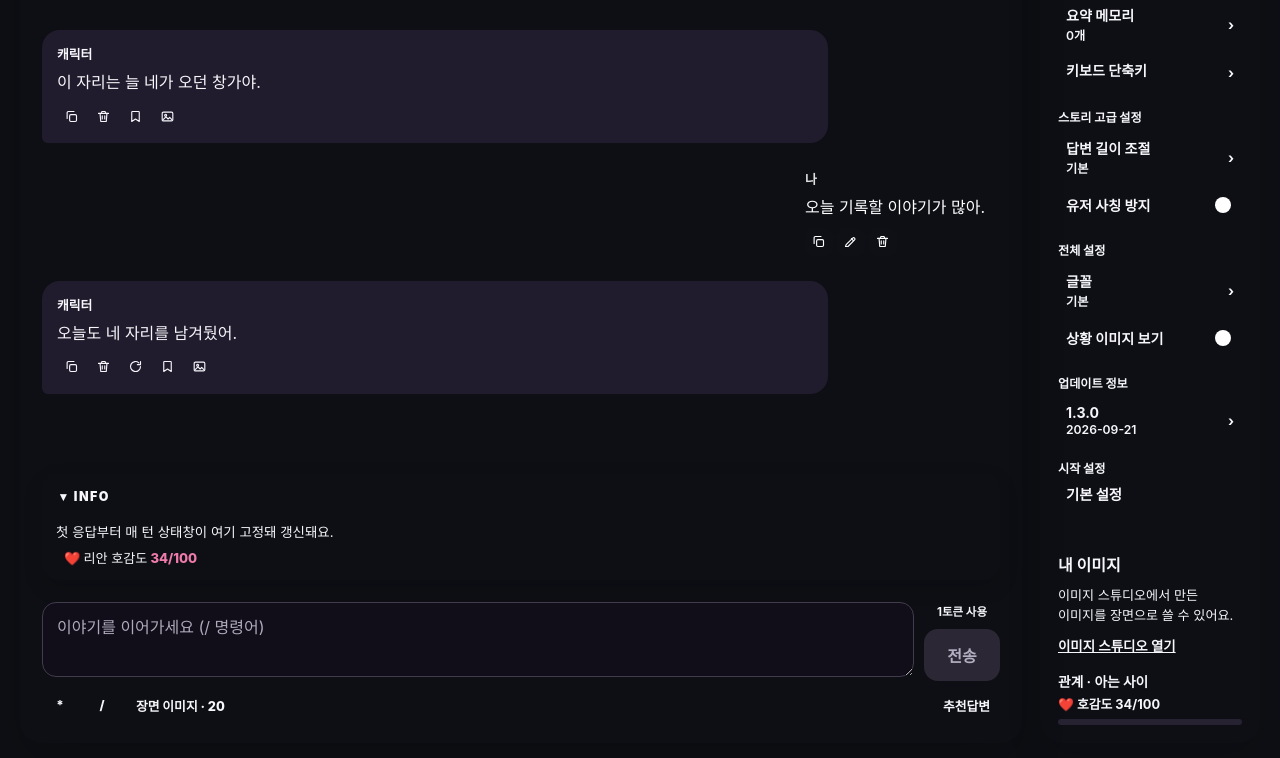
Test: 등급 선택 화면 › 실제 AI가 실패하면 채팅 화면이 이유를 쉬운 말로 알려 주고 다시 시도할 수 있게 한다
(page scrolled)
Type "안녕" into the text box named "메시지". click: [478, 640]
box: [42,602,914,677]
Then press Enter
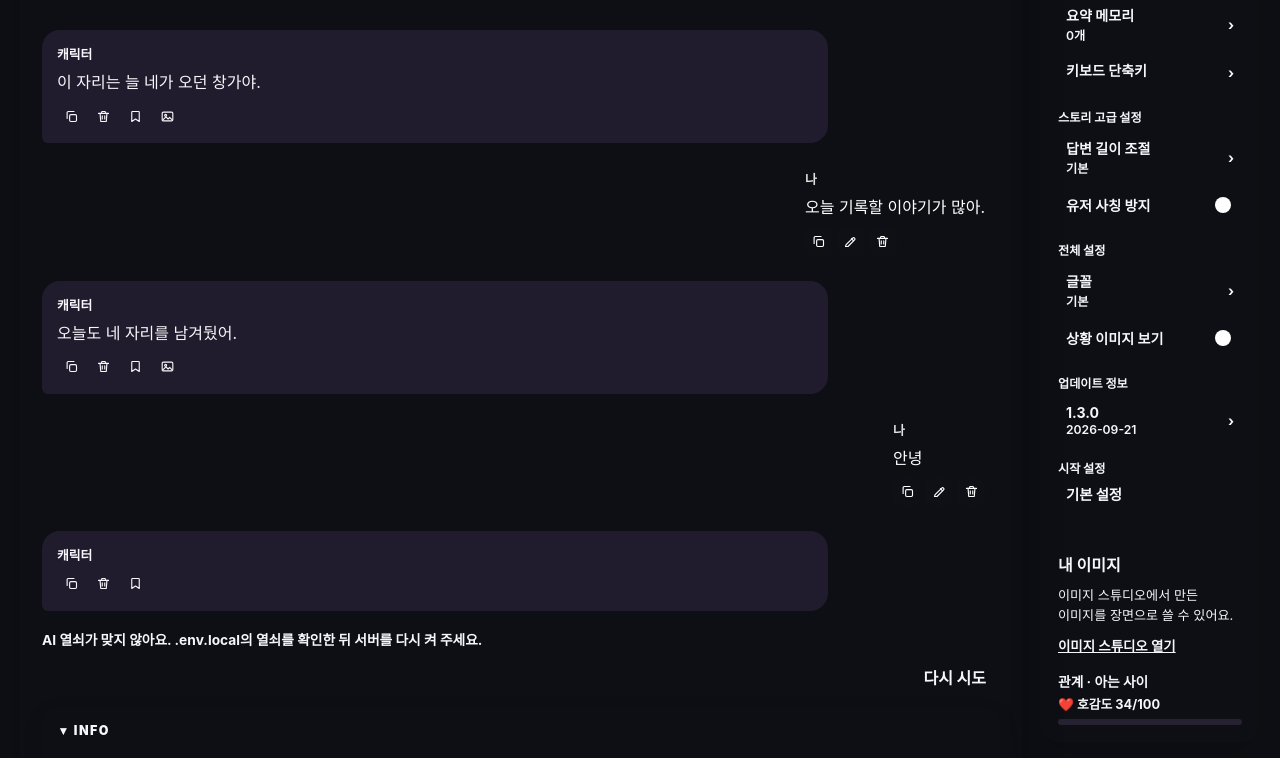
Expected: the text "AI 열쇠가 맞지 않아요. .env.local의 열쇠를 확인한 뒤 서버를 다시 켜 주세요." is shown, [42,632,482,648]
Expected: the button "다시 시도" is shown, [910,657,1000,697]
